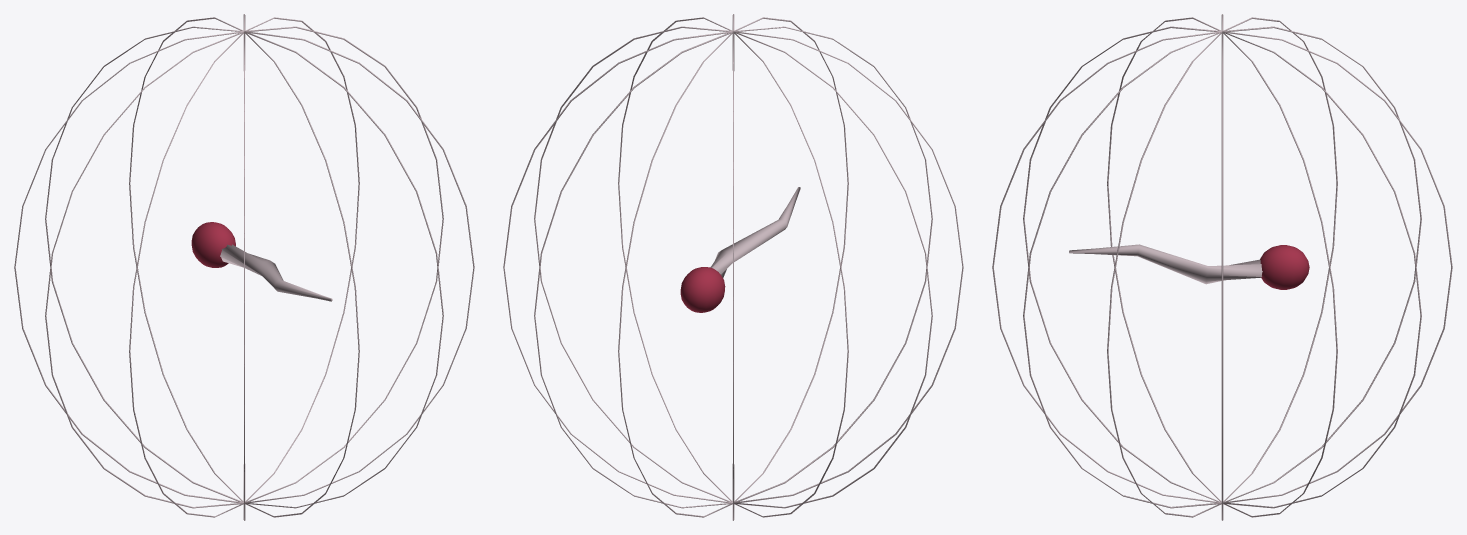
The model's file is redhead-larvacean.glb.
The picture shows the model from 3 angles, left to right: view 1: azimuth 30°, elevation 25°; view 2: azimuth 150°, elevation 25°; view 3: azimuth 270°, elevation 25°; orthographic projection.
Visible parts, largest first — view 1: redhead-larvacean; view 2: redhead-larvacean; view 3: redhead-larvacean.
Part boxes in pixels (x1,y1,x2,y2): redhead-larvacean: (14, 14, 474, 520); redhead-larvacean: (503, 14, 963, 520); redhead-larvacean: (992, 14, 1452, 520).
Size of the model in its own units: 0.301 by 0.341 by 0.301.
